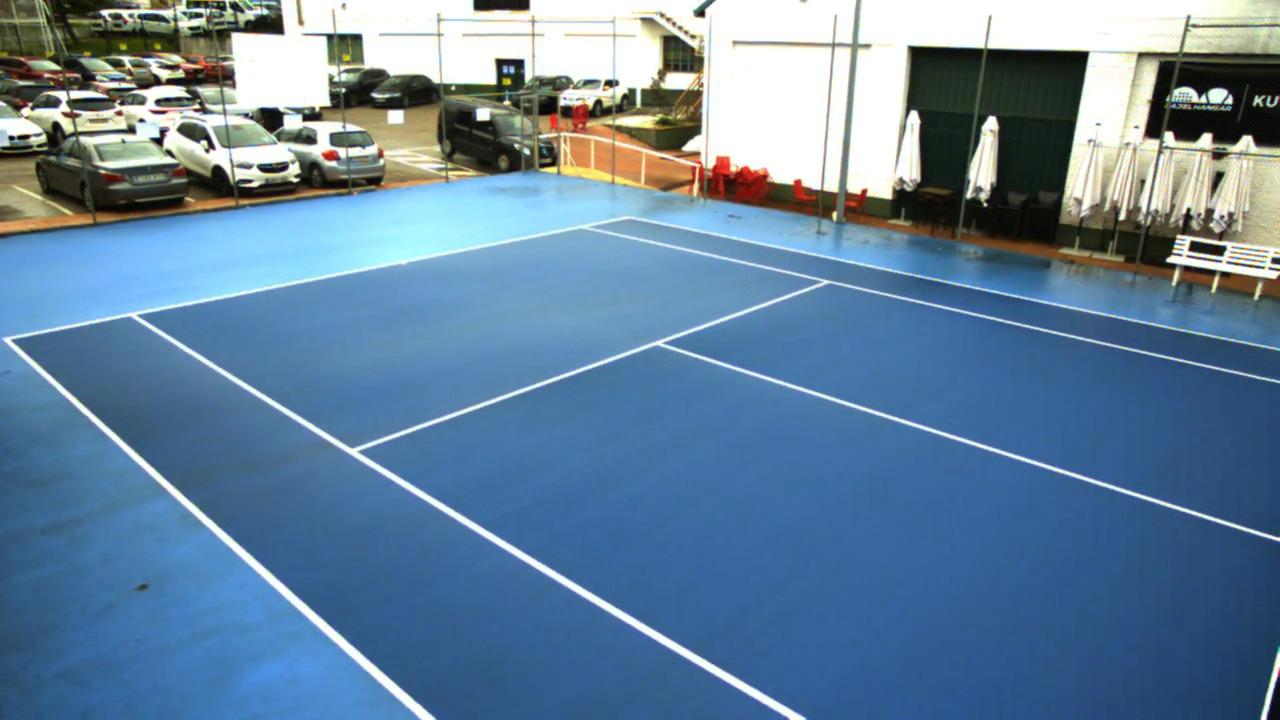cancha_tenis: (126, 222, 1280, 720)
point_f1: (119, 302, 152, 326)
point_f2: (566, 213, 596, 236)
point_fc1: (394, 254, 416, 270)
point_i1: (335, 436, 377, 467)
point_i2: (805, 271, 841, 293)
point_ic1: (645, 331, 679, 354)
